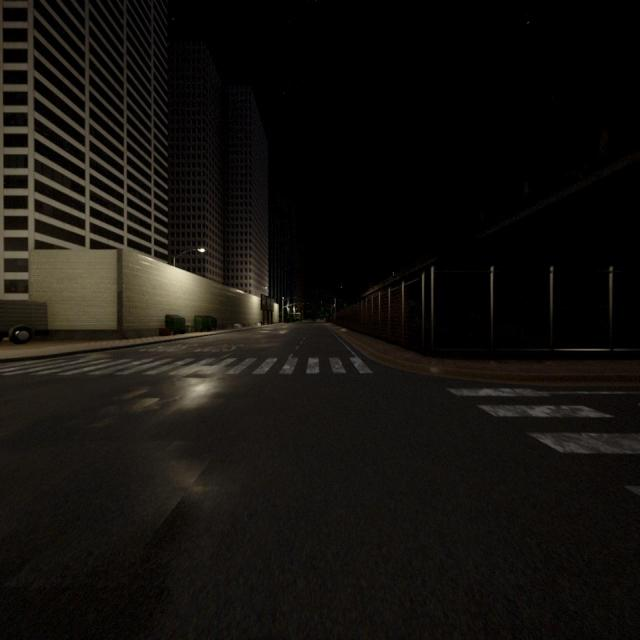Vehicle: (0, 298, 50, 346)
traffic_light: (322, 307, 324, 310)
